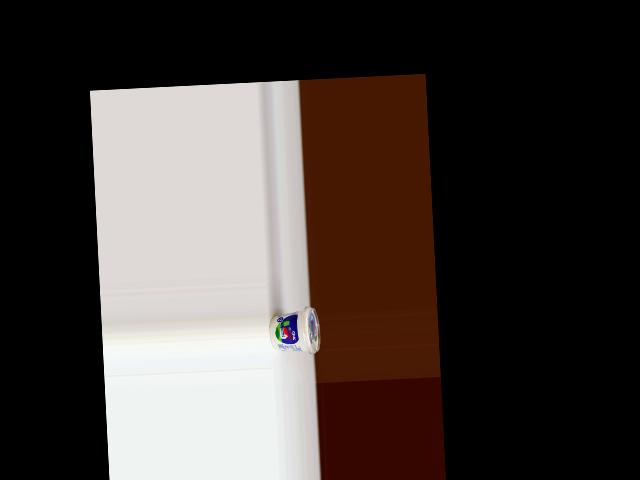cotage: (268, 306, 321, 357)
